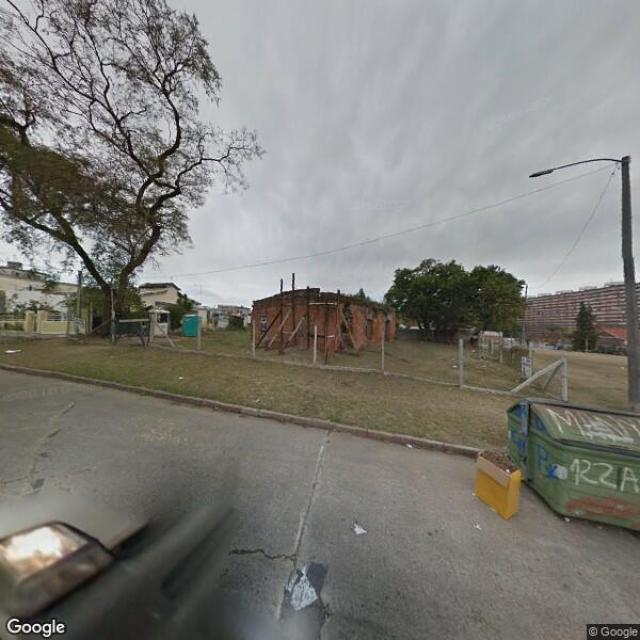garbage container: (496, 380, 640, 555)
